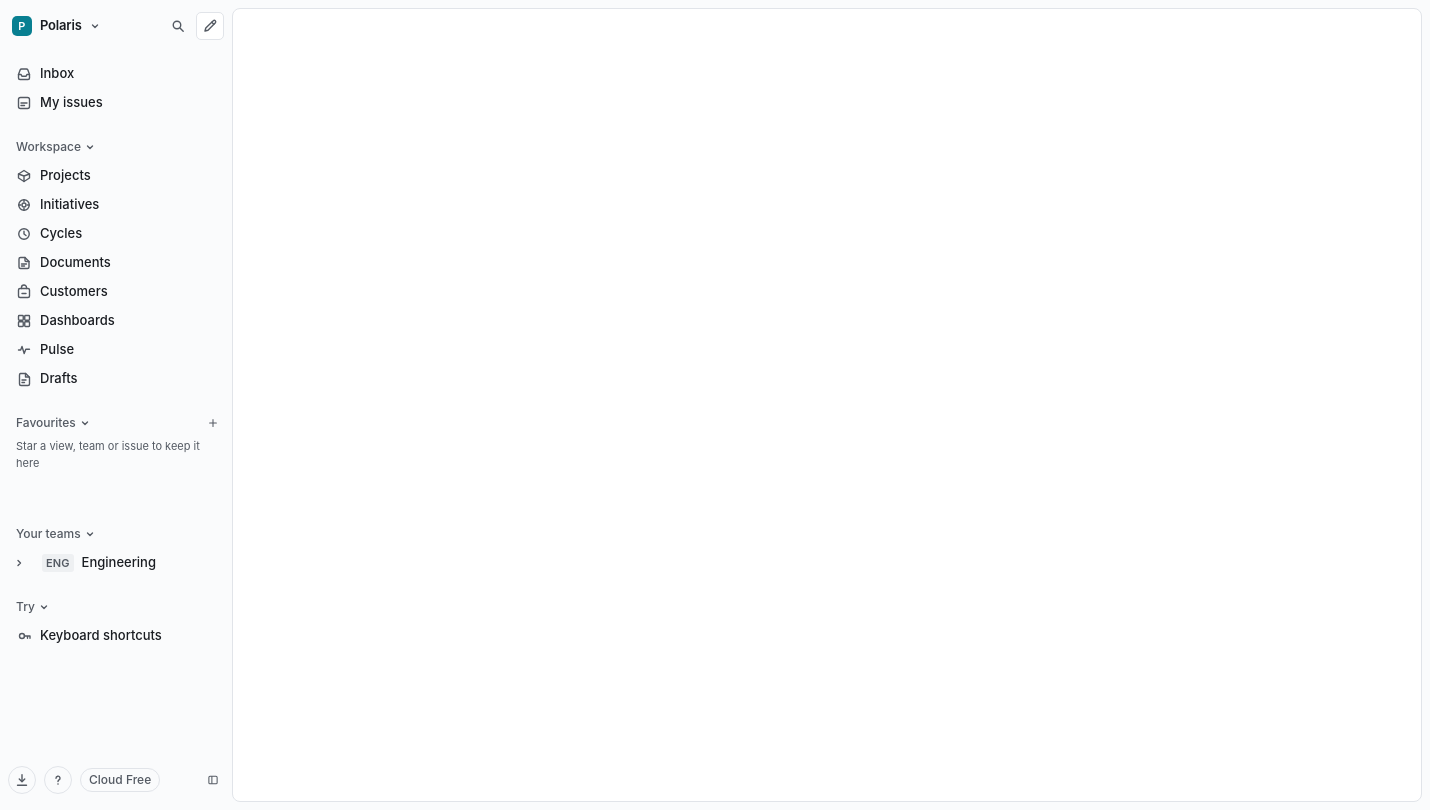
Test case: the workspace menu › withholds the invitation from a member
Click the button with aria-label "Workspace menu". click: [84, 26]
box: [8, 12, 160, 40]
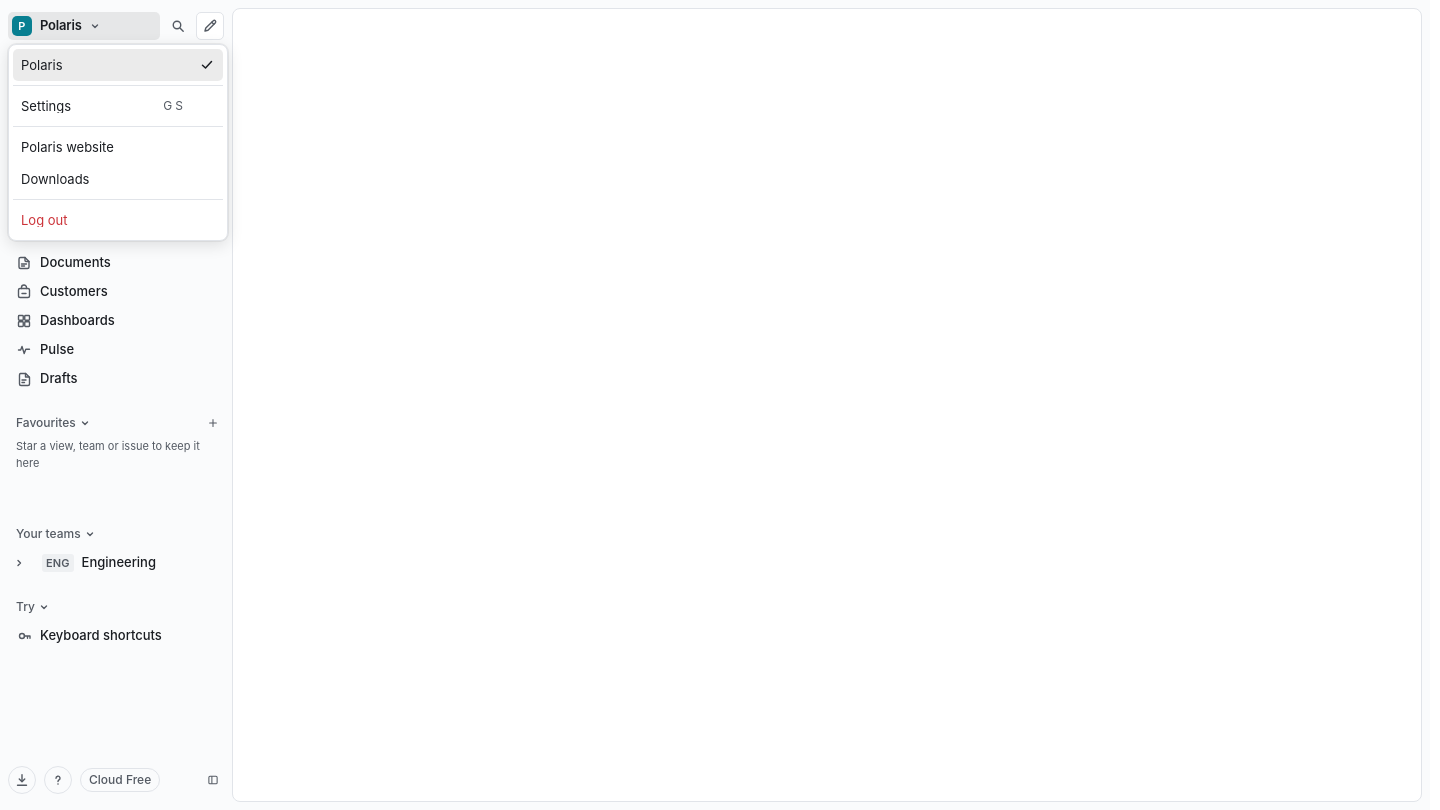
Check: the menu item "Settings G S" is shown, box [21, 98, 183, 114]
